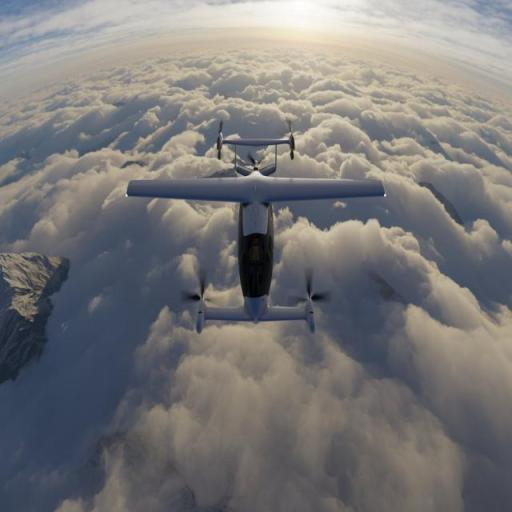uav: (114, 124, 397, 338)
